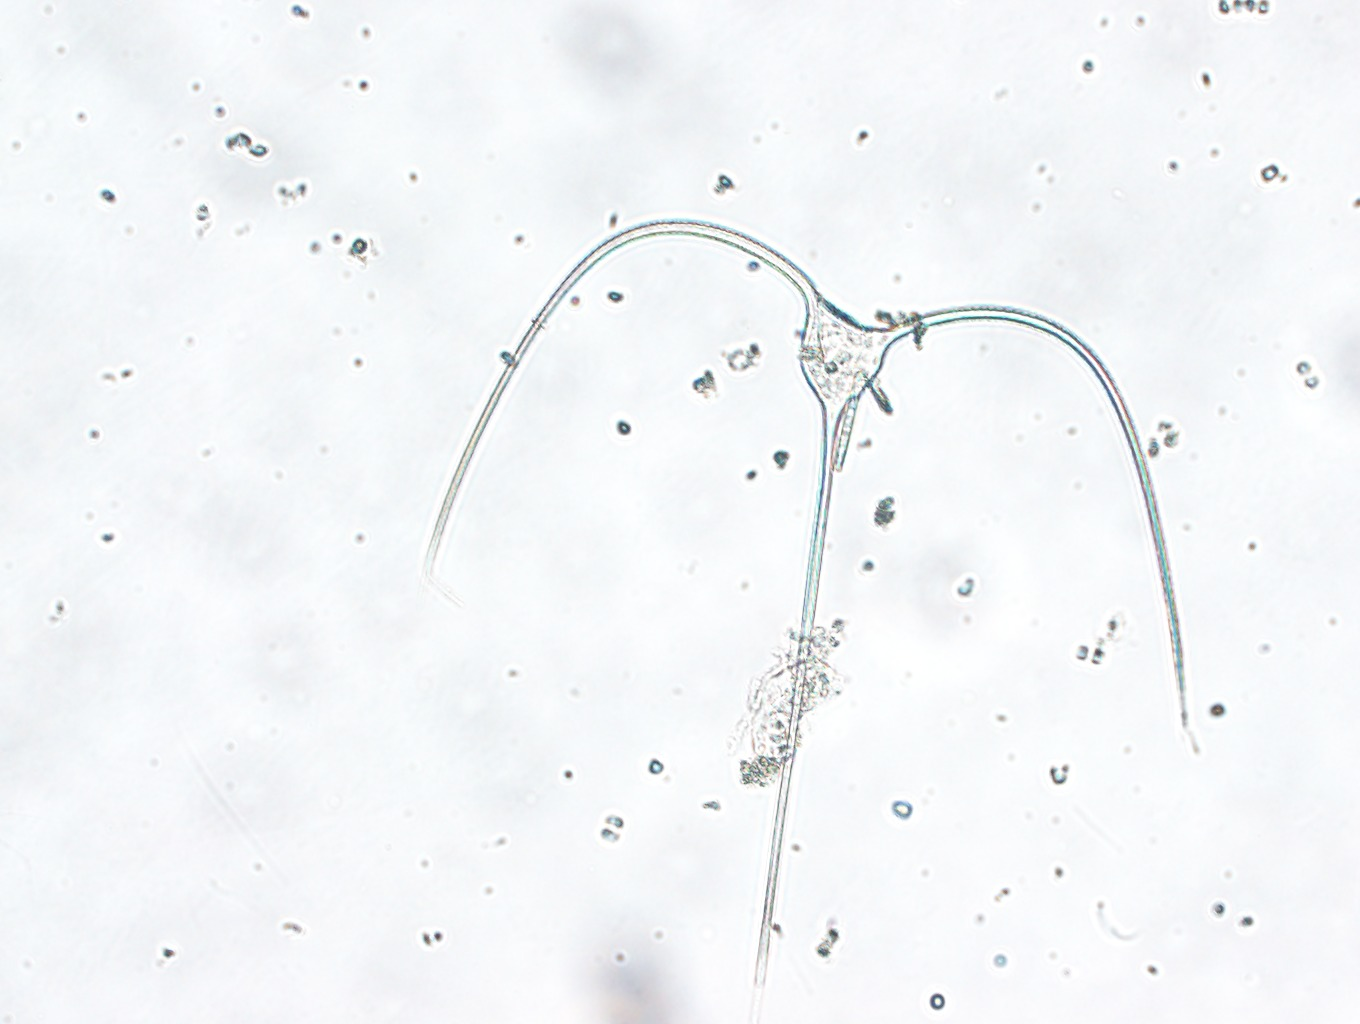ceratium trichoceros: (411, 193, 1201, 1018)
